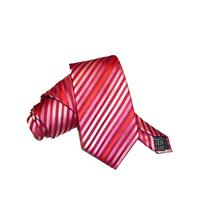tie: (26, 54, 172, 168)
